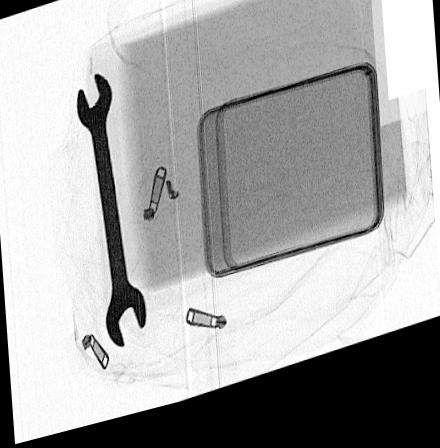Wrench: (75, 76, 144, 353)
